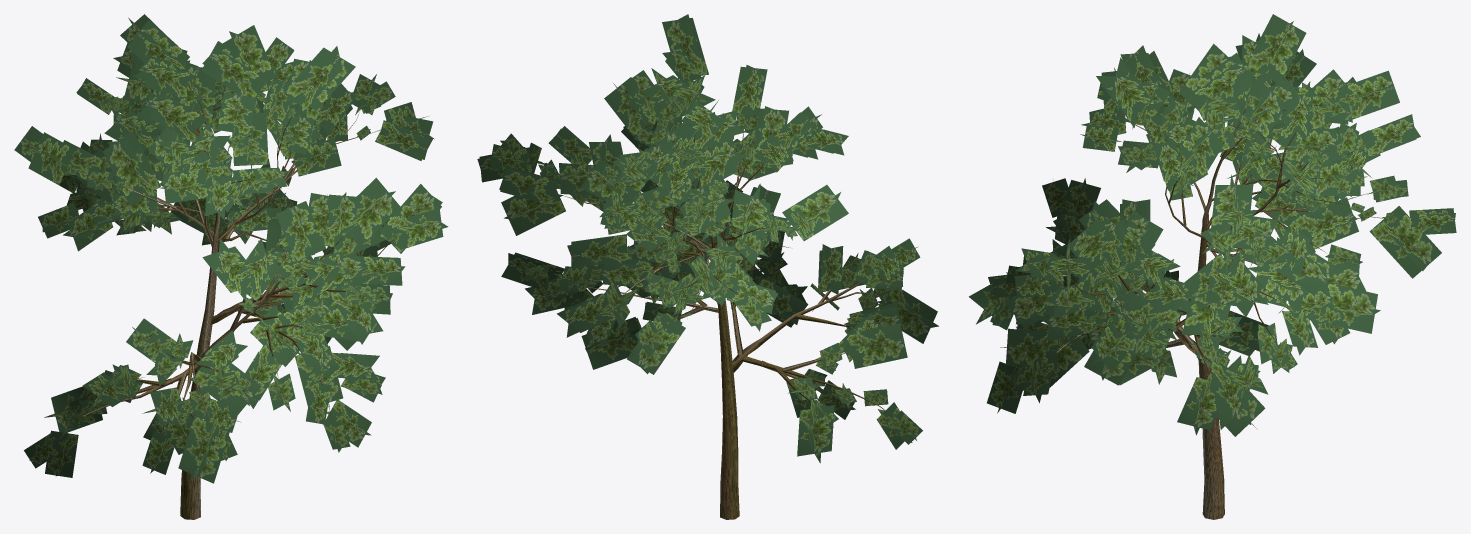
File: oak_tree_small.glb
3 views of the same model, side by side, from view 1: azimuth 30°, elevation 25°; view 2: azimuth 150°, elevation 25°; view 3: azimuth 270°, elevation 25° (orthographic). The views are drawn at different scales.
Visible parts, largest first — view 1: oak_tree_small; view 2: oak_tree_small; view 3: oak_tree_small.
Boxes of the visible parts, <box> form: oak_tree_small: <box>14,14,448,519</box>; oak_tree_small: <box>477,14,938,519</box>; oak_tree_small: <box>969,14,1456,519</box>.
Size of the model in its own units: 2.82 by 2.96 by 2.6.
Materials: 2 (2 with a texture image).
